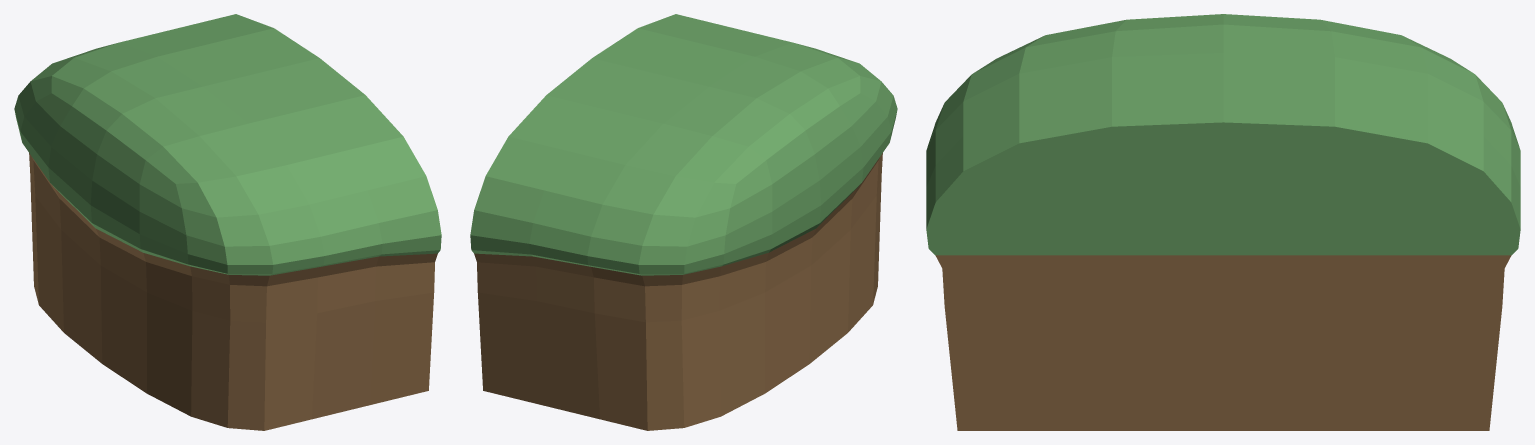
The model's file is quaternius-platformer-pack-platform-top-left.glb.
3 views of the same model, side by side, from view 1: azimuth 30°, elevation 25°; view 2: azimuth 150°, elevation 25°; view 3: azimuth 270°, elevation 25° (orthographic). The views are drawn at different scales.
Parts seen in each view (by area): view 1: Platform_TopLeft; view 2: Platform_TopLeft; view 3: Platform_TopLeft.
Part boxes in pixels (left/top/right/bottom): Platform_TopLeft: left=14, top=14, right=441, bottom=430; Platform_TopLeft: left=470, top=14, right=897, bottom=430; Platform_TopLeft: left=926, top=14, right=1520, bottom=430.
Size of the model in its own units: 1.9 by 2 by 3.49.
